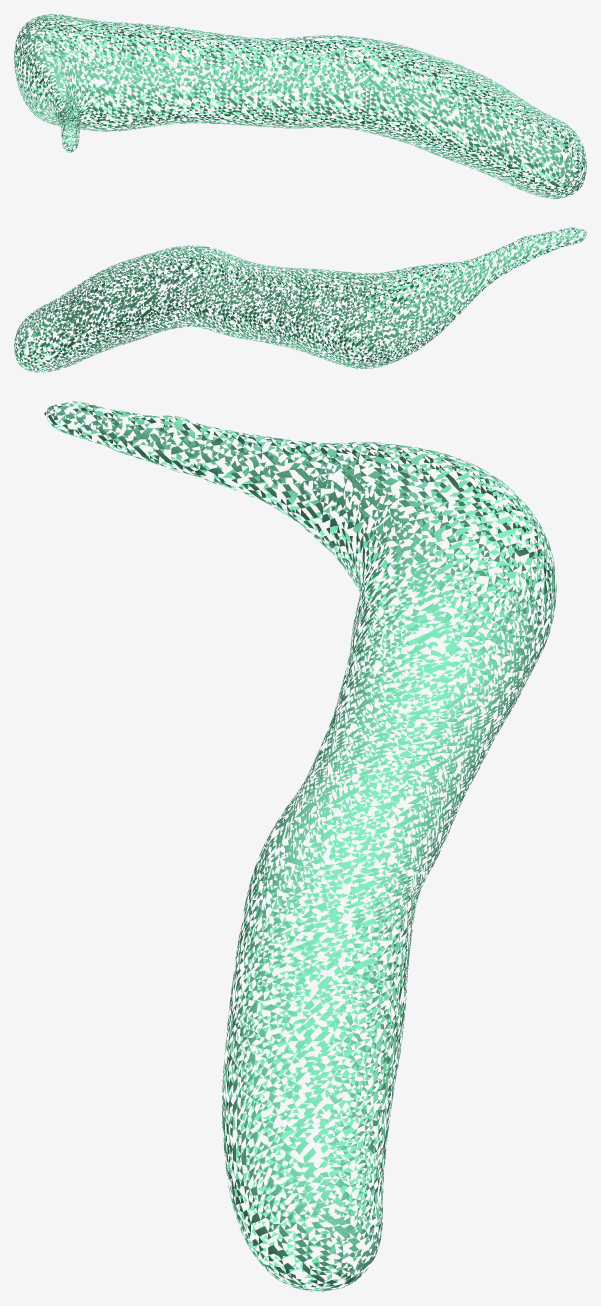
File: healthy.glb
The picture shows the model from 3 angles, top to bottom: view 1: azimuth 30°, elevation 25°; view 2: azimuth 150°, elevation 25°; view 3: azimuth 270°, elevation 25°; orthographic projection. The views are drawn at different scales.
Size of the model in its own units: 108 by 45.17 by 47.87.
